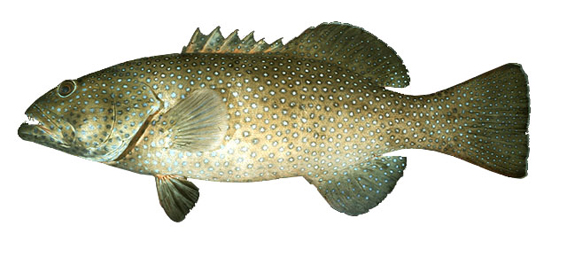fish: (18, 20, 533, 223)
